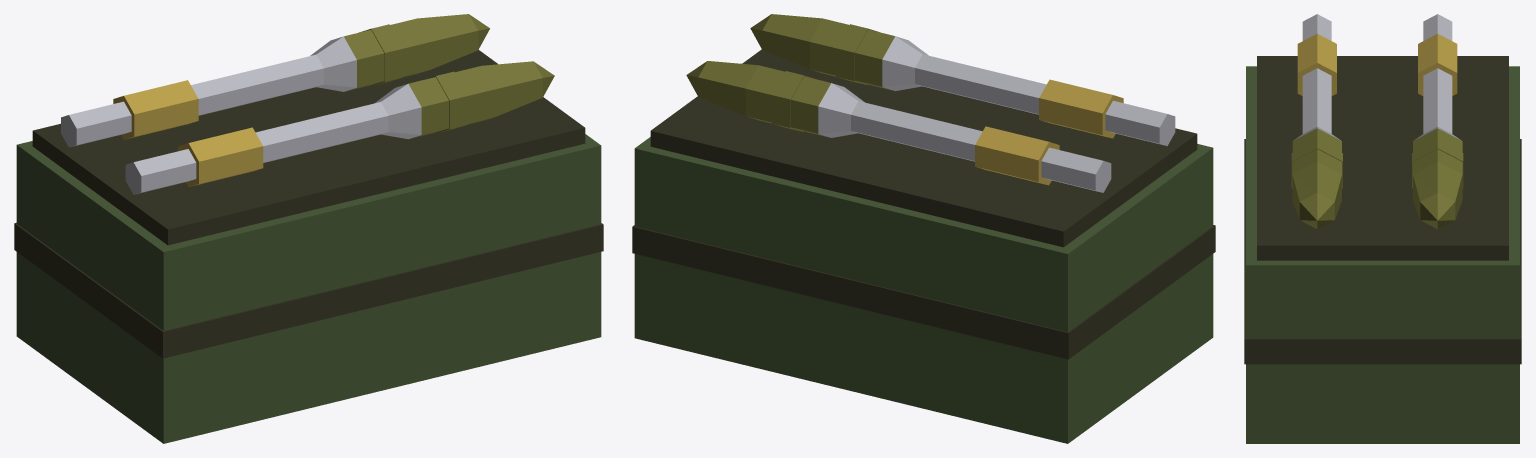
The model's file is ce_ammo2_spg9_frag_c.obj.
3 views of the same model, side by side, from view 1: azimuth 30°, elevation 25°; view 2: azimuth 150°, elevation 25°; view 3: azimuth 270°, elevation 25° (orthographic). The views are drawn at different scales.
Parts seen in each view (by area): view 1: ce_ammo2_spg9_frag_c_0, ce_ammo2_spg9_frag_c_1, ce_ammo2_spg9_frag_c_2, ce_ammo2_spg9_frag_c_5, ce_ammo2_spg9_frag_c_14, ce_ammo2_spg9_frag_c_4, ce_ammo2_spg9_frag_c_13, ce_ammo2_spg9_frag_c_10, ce_ammo2_spg9_frag_c_19, ce_ammo2_spg9_frag_c_12, ce_ammo2_spg9_frag_c_3, ce_ammo2_spg9_frag_c_15 (+7 smaller); view 2: ce_ammo2_spg9_frag_c_0, ce_ammo2_spg9_frag_c_1, ce_ammo2_spg9_frag_c_2, ce_ammo2_spg9_frag_c_5, ce_ammo2_spg9_frag_c_14, ce_ammo2_spg9_frag_c_4, ce_ammo2_spg9_frag_c_13, ce_ammo2_spg9_frag_c_10, ce_ammo2_spg9_frag_c_19, ce_ammo2_spg9_frag_c_3, ce_ammo2_spg9_frag_c_12, ce_ammo2_spg9_frag_c_6 (+7 smaller); view 3: ce_ammo2_spg9_frag_c_0, ce_ammo2_spg9_frag_c_1, ce_ammo2_spg9_frag_c_2, ce_ammo2_spg9_frag_c_5, ce_ammo2_spg9_frag_c_14, ce_ammo2_spg9_frag_c_10, ce_ammo2_spg9_frag_c_19, ce_ammo2_spg9_frag_c_4, ce_ammo2_spg9_frag_c_13, ce_ammo2_spg9_frag_c_11, ce_ammo2_spg9_frag_c_20, ce_ammo2_spg9_frag_c_9 (+7 smaller).
Part boxes in pixels (bbox=[...]): ce_ammo2_spg9_frag_c_0: bbox=[16, 134, 601, 443]; ce_ammo2_spg9_frag_c_1: bbox=[32, 50, 585, 245]; ce_ammo2_spg9_frag_c_2: bbox=[14, 222, 603, 358]; ce_ammo2_spg9_frag_c_5: bbox=[191, 54, 323, 115]; ce_ammo2_spg9_frag_c_14: bbox=[255, 102, 388, 162]; ce_ammo2_spg9_frag_c_4: bbox=[113, 80, 198, 139]; ce_ammo2_spg9_frag_c_13: bbox=[178, 127, 263, 186]; ce_ammo2_spg9_frag_c_10: bbox=[417, 14, 478, 69]; ce_ammo2_spg9_frag_c_19: bbox=[482, 61, 542, 116]; ce_ammo2_spg9_frag_c_12: bbox=[125, 149, 196, 194]; ce_ammo2_spg9_frag_c_3: bbox=[61, 101, 131, 147]; ce_ammo2_spg9_frag_c_15: bbox=[375, 84, 421, 139]; ce_ammo2_spg9_frag_c_0: bbox=[634, 137, 1213, 443]; ce_ammo2_spg9_frag_c_1: bbox=[650, 49, 1197, 247]; ce_ammo2_spg9_frag_c_2: bbox=[632, 225, 1215, 359]; ce_ammo2_spg9_frag_c_5: bbox=[851, 101, 982, 161]; ce_ammo2_spg9_frag_c_14: bbox=[915, 54, 1046, 114]; ce_ammo2_spg9_frag_c_4: bbox=[975, 126, 1059, 185]; ce_ammo2_spg9_frag_c_13: bbox=[1039, 79, 1123, 138]; ce_ammo2_spg9_frag_c_10: bbox=[698, 61, 758, 115]; ce_ammo2_spg9_frag_c_19: bbox=[762, 14, 822, 68]; ce_ammo2_spg9_frag_c_3: bbox=[1041, 147, 1111, 192]; ce_ammo2_spg9_frag_c_12: bbox=[1105, 100, 1175, 145]; ce_ammo2_spg9_frag_c_6: bbox=[818, 83, 864, 137]; ce_ammo2_spg9_frag_c_0: bbox=[1246, 66, 1519, 443]; ce_ammo2_spg9_frag_c_1: bbox=[1257, 56, 1508, 260]; ce_ammo2_spg9_frag_c_2: bbox=[1244, 139, 1521, 364]; ce_ammo2_spg9_frag_c_5: bbox=[1423, 68, 1452, 133]; ce_ammo2_spg9_frag_c_14: bbox=[1302, 68, 1331, 133]; ce_ammo2_spg9_frag_c_10: bbox=[1413, 161, 1462, 219]; ce_ammo2_spg9_frag_c_19: bbox=[1292, 161, 1341, 219]; ce_ammo2_spg9_frag_c_4: bbox=[1418, 33, 1457, 95]; ce_ammo2_spg9_frag_c_13: bbox=[1297, 33, 1336, 95]; ce_ammo2_spg9_frag_c_11: bbox=[1420, 193, 1455, 229]; ce_ammo2_spg9_frag_c_20: bbox=[1299, 193, 1334, 229]; ce_ammo2_spg9_frag_c_9: bbox=[1413, 149, 1462, 174].
Bounding box in the file's own units: 0.866 × 0.4962 × 0.506.
